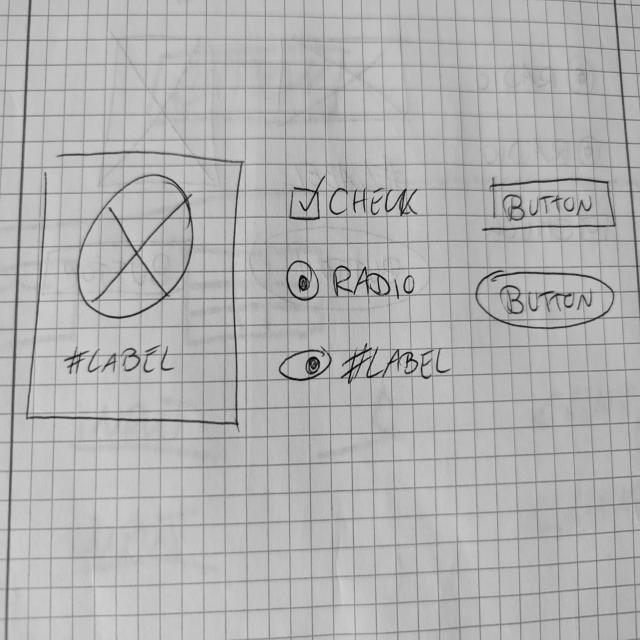button: (475, 269, 618, 334), (489, 175, 619, 235)
checkbox: (289, 183, 422, 224)
container: (26, 149, 245, 430)
image: (76, 171, 198, 322)
label: (341, 342, 456, 387), (65, 343, 178, 379)
radio: (286, 259, 418, 304)
toggle: (278, 348, 334, 385)
